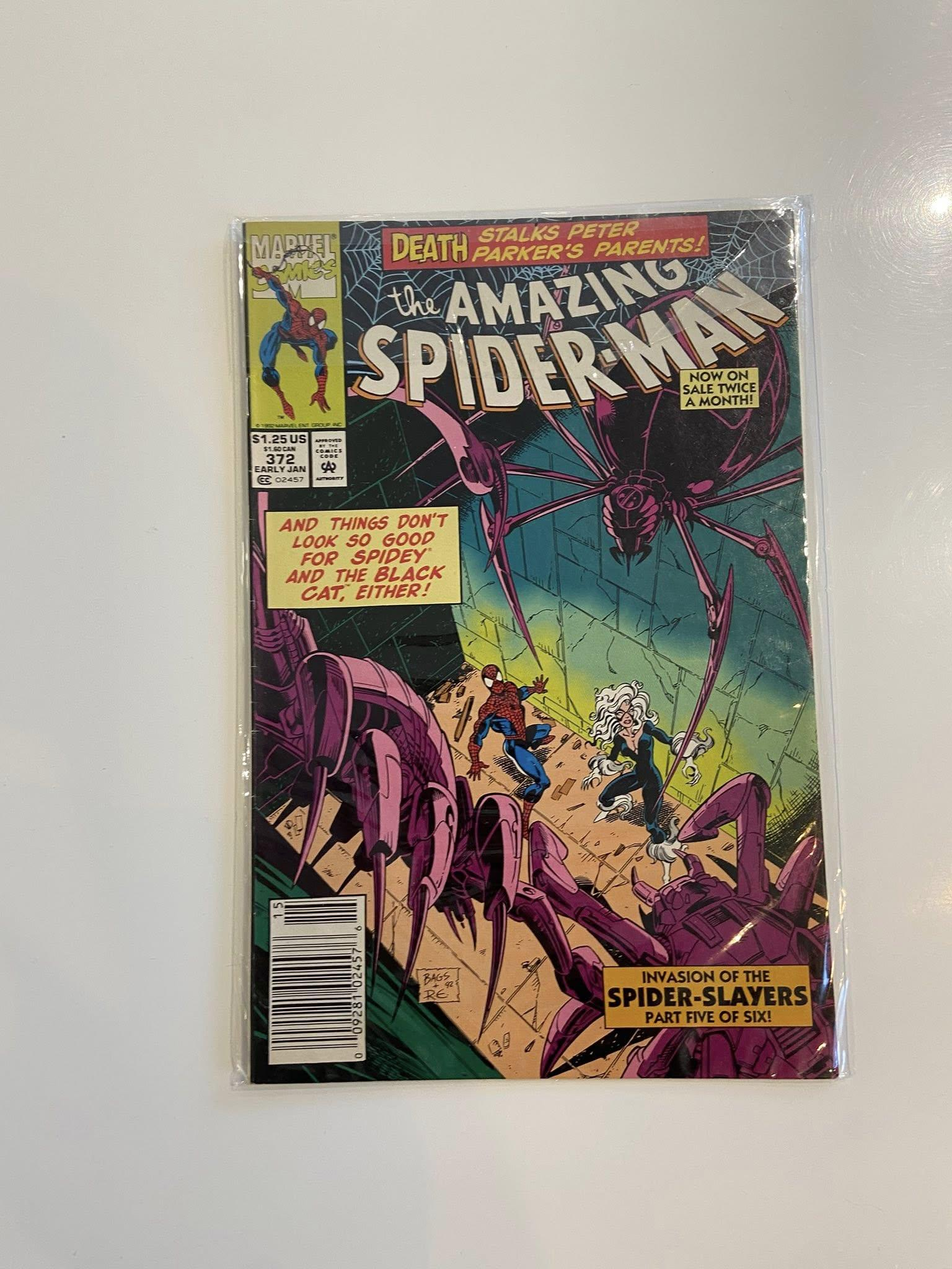comic: (217, 202, 836, 1097)
